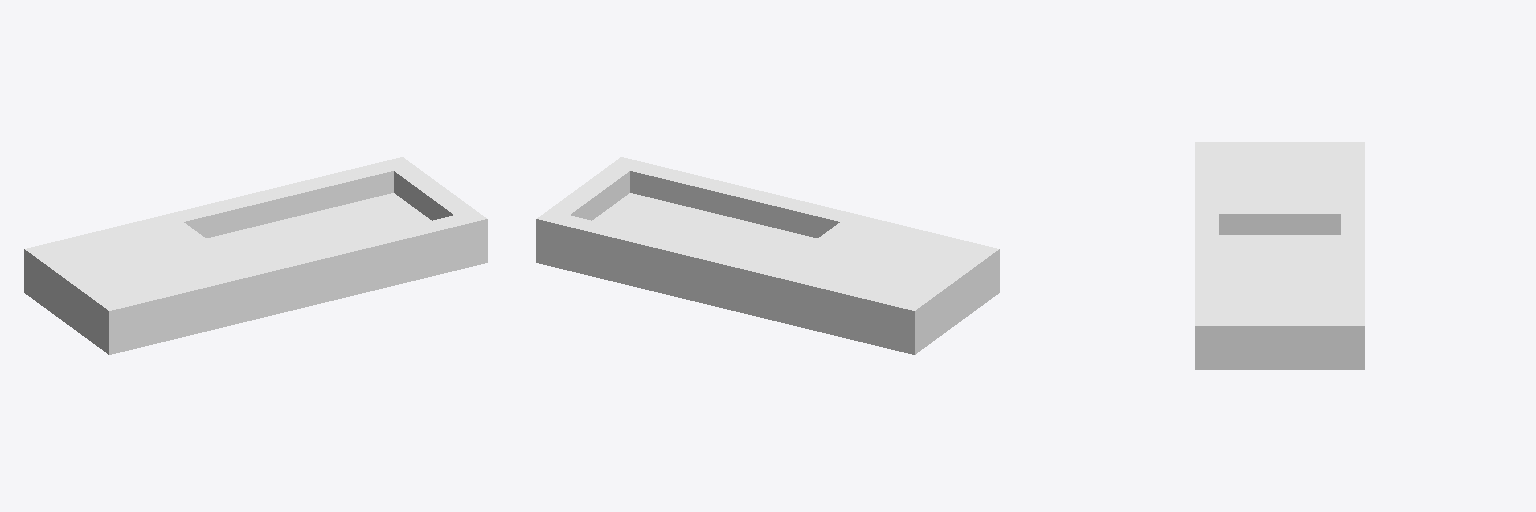
The model's file is EnergyBar.obj.
3 renders of one model, left to right at view 1: azimuth 30°, elevation 25°; view 2: azimuth 150°, elevation 25°; view 3: azimuth 270°, elevation 25°, orthographic.
Bounding box in the file's own units: 18 × 2 × 7.